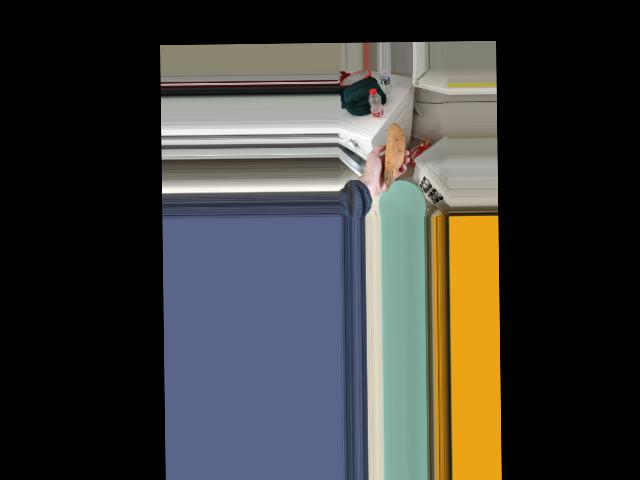sweet_potato: (381, 129, 405, 183)
